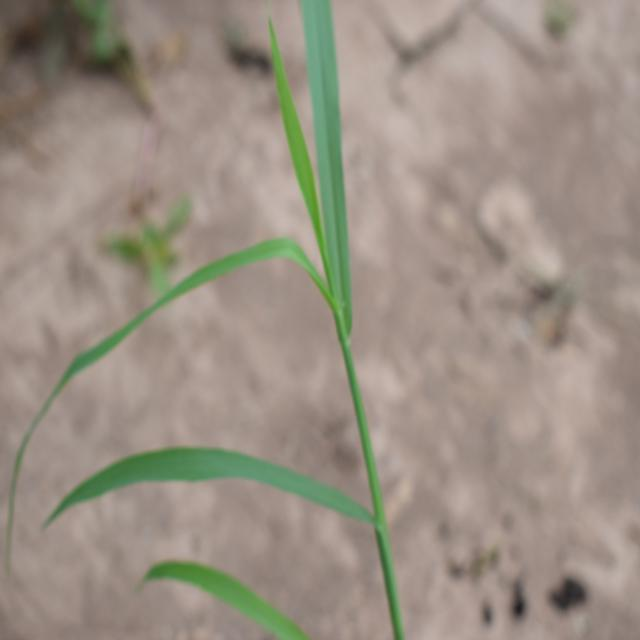crabgrass: (59, 0, 424, 570)
